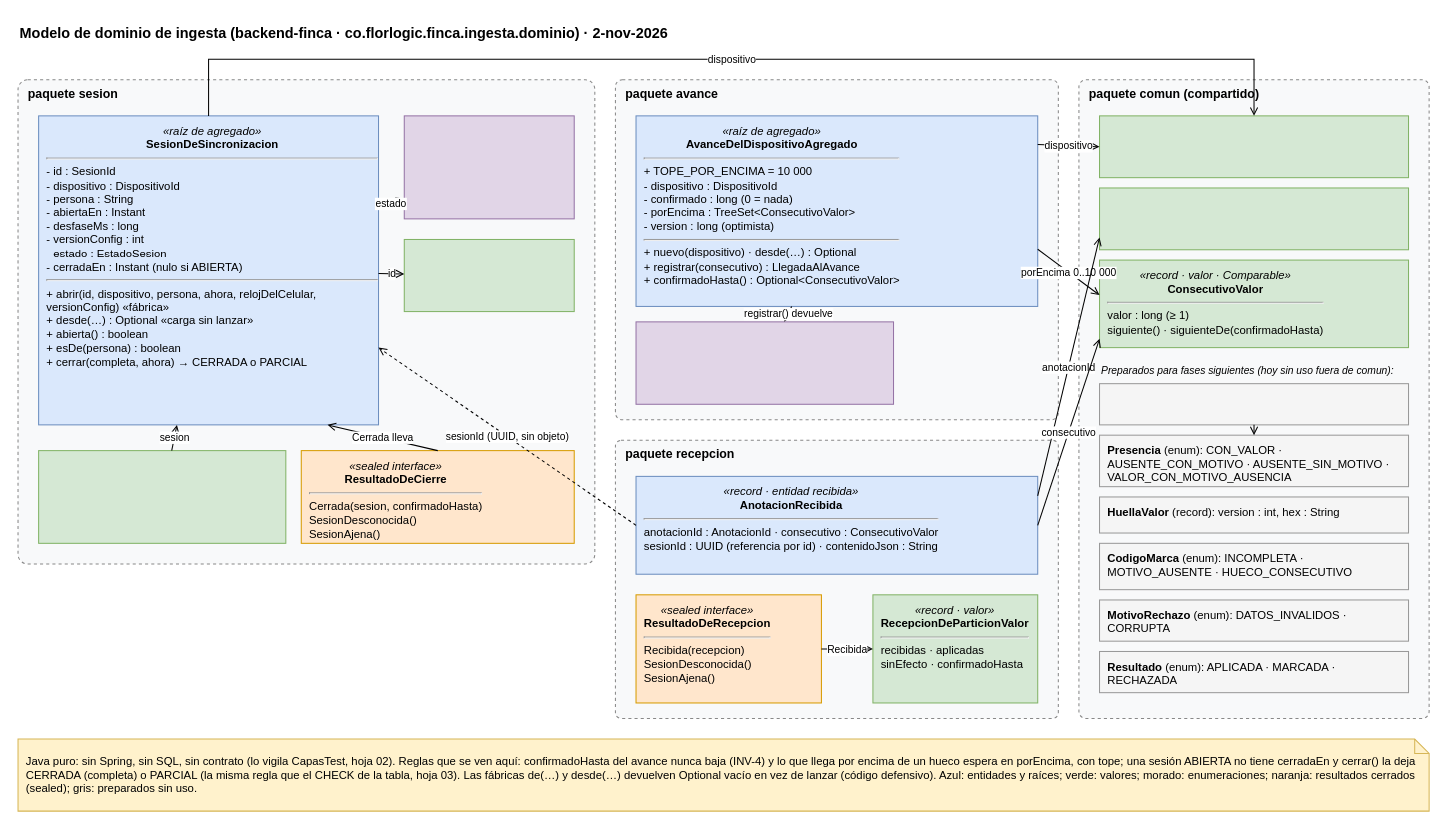
This 1447x829 diagram has some shape labels left out. Here are the shapes that lost their labels. From the top down, the centre of each, then its label:
pixel 1253 146: «record · valor» DispositivoId valor : UUID
pixel 488 167: «enum» EstadoSesion ABIERTA CERRADA PARCIAL
pixel 1253 218: «record · valor» AnotacionId valor : UUID
pixel 488 275: «record · valor» SesionId valor : UUID
pixel 764 362: «enum» LlegadaAlAvance YA_CUBIERTO · AVANZA EN_ESPERA · FUERA_DE_VENTANA
pixel 1253 404: CapturaValor (record): json, campos : Map<String, Presencia>
pixel 162 496: «record · valor» SesionAbiertaValor sesion · confirmadoHasta : long
